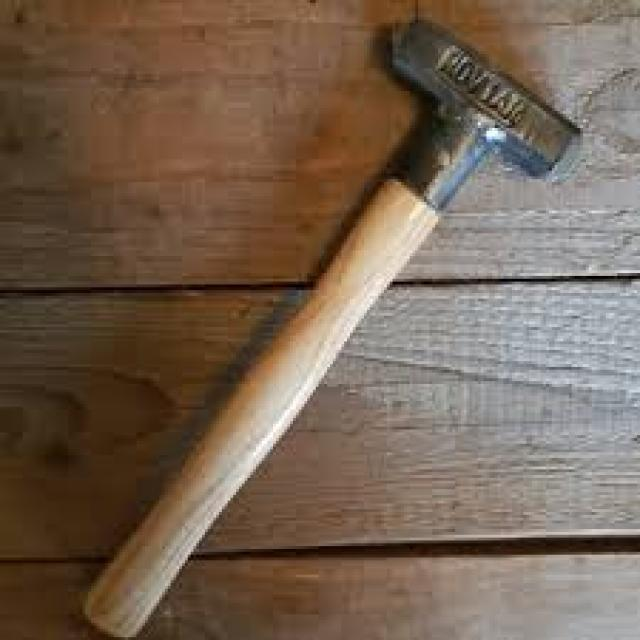hammer: (66, 8, 587, 640)
